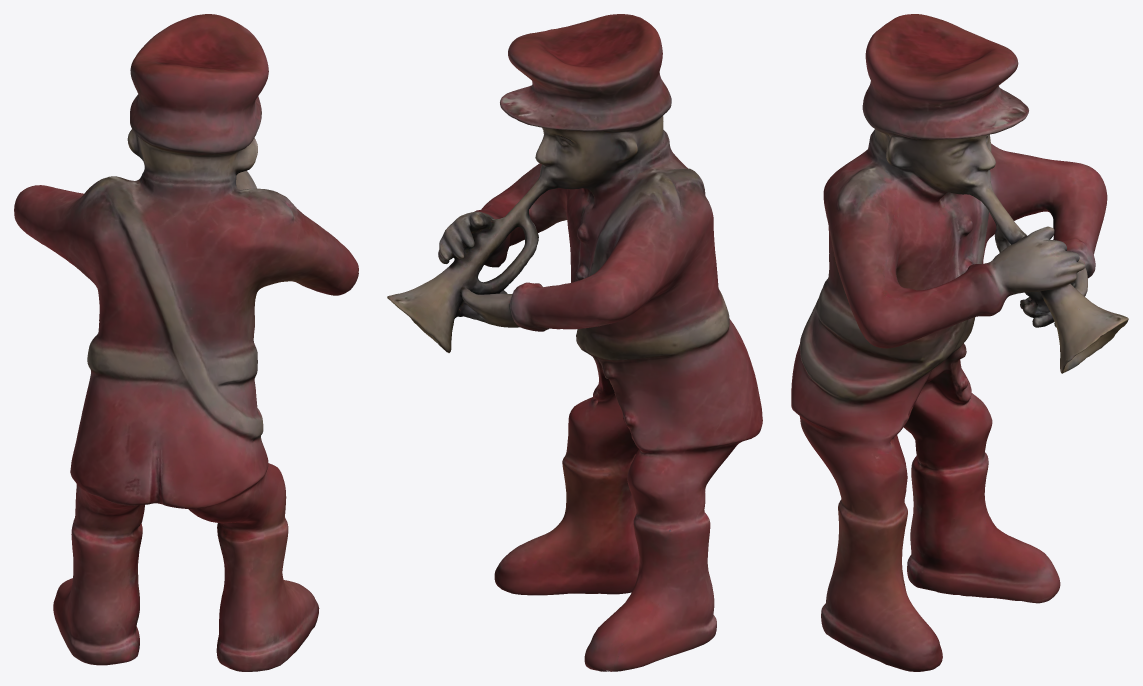
File: khanna-bandwalla.glb
The picture shows the model from 3 angles, left to right: view 1: azimuth 30°, elevation 25°; view 2: azimuth 150°, elevation 25°; view 3: azimuth 270°, elevation 25°; orthographic projection.
Visible parts, largest first — view 1: Mesh; view 2: Mesh; view 3: Mesh.
Boxes of the visible parts, x1,y1,x2,y2 form: Mesh: (14, 14, 358, 671); Mesh: (387, 14, 762, 671); Mesh: (791, 14, 1128, 671).
Size of the model in its own units: 13.28 by 27.42 by 14.24.
Materials: 1 (1 with a texture image).
